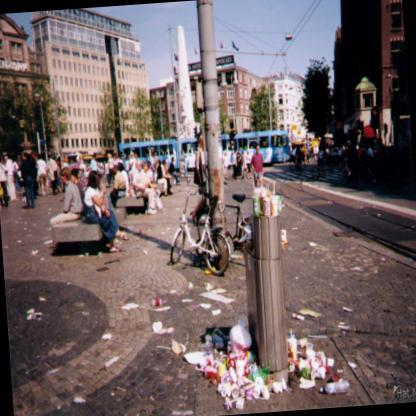Garbage: (177, 314, 258, 410), (287, 316, 350, 408), (209, 370, 271, 403), (188, 277, 232, 321), (134, 278, 171, 324), (252, 176, 284, 216), (191, 344, 219, 388), (233, 316, 256, 353), (300, 350, 322, 382), (116, 286, 143, 310), (273, 379, 294, 404), (198, 332, 214, 361), (166, 332, 182, 360), (150, 319, 172, 331)
